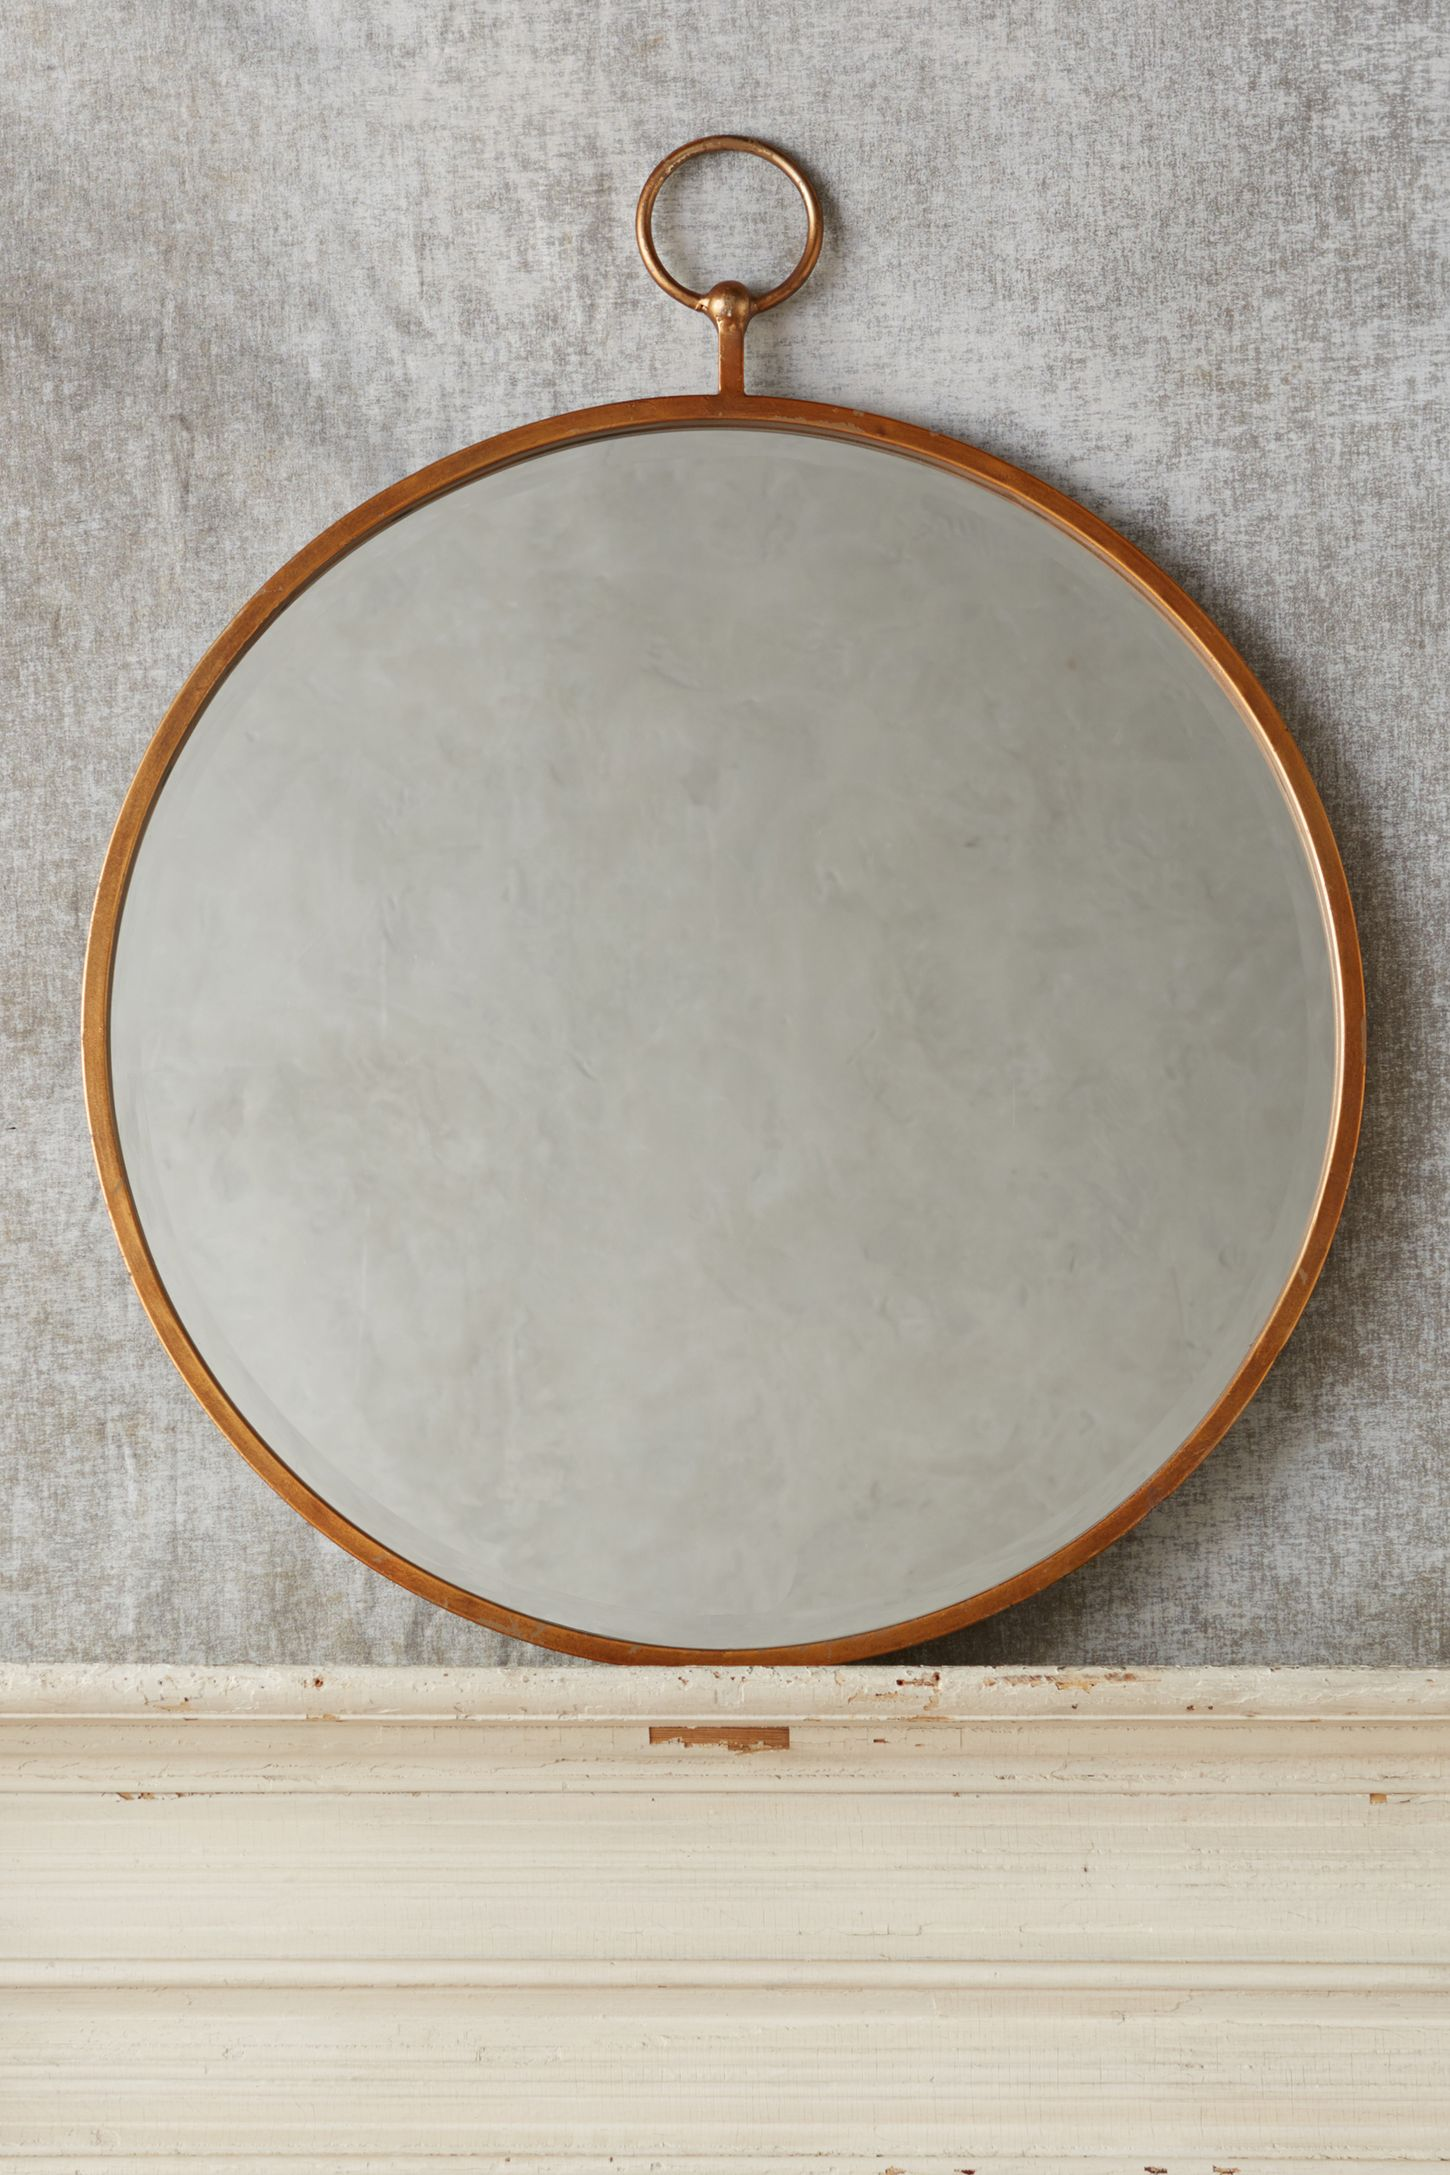Nonrec_Glass: (40, 282, 1372, 1656)
